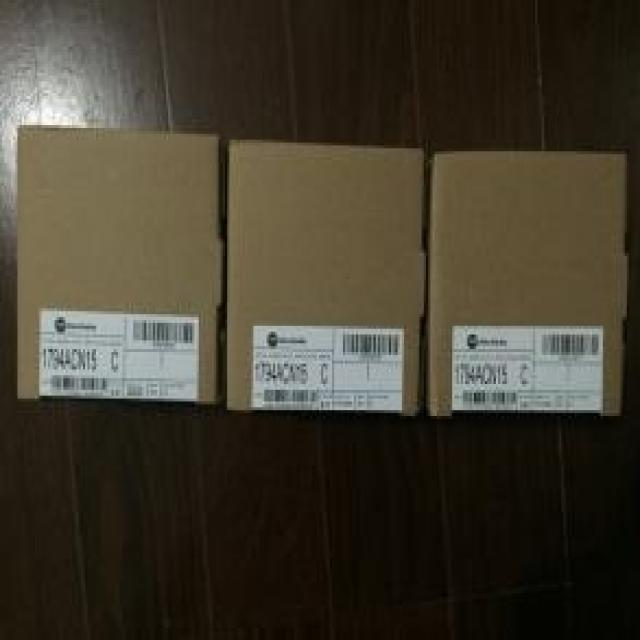Carton: (15, 125, 214, 396), (225, 140, 419, 407), (430, 154, 620, 413)
